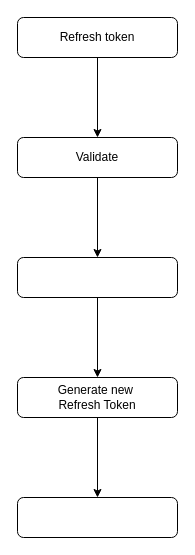
Image size: 195x555. Some labels were removed from this diagram. The box of each missing label's shape, as (x1, y1, x2, y2) in pixels:
Generate new Access Token: (16, 496, 178, 538)
Invalidate old token: (16, 256, 178, 298)
